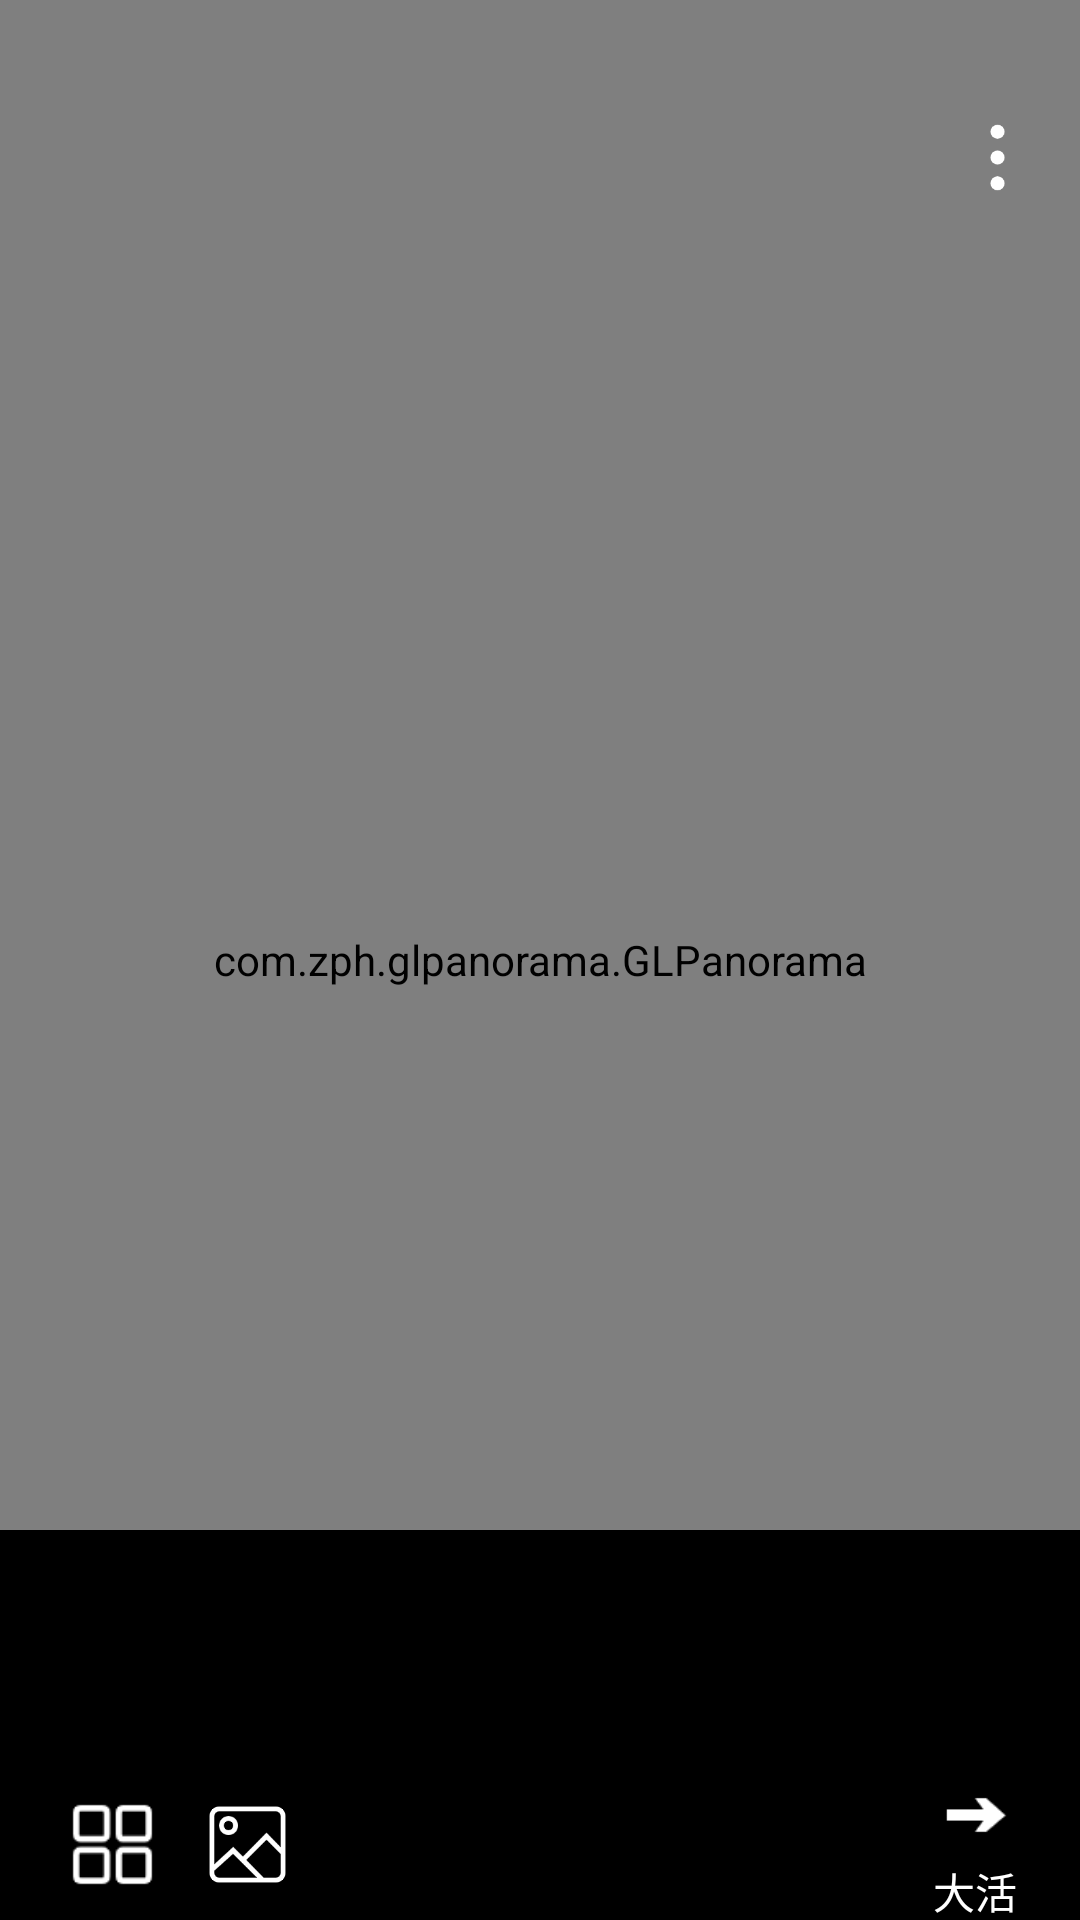

Named icons in this screenshot (1080px×1920px) and their centers, (x,y):
menu: (997,157)
right: (976,1815)
views: (112,1844)
